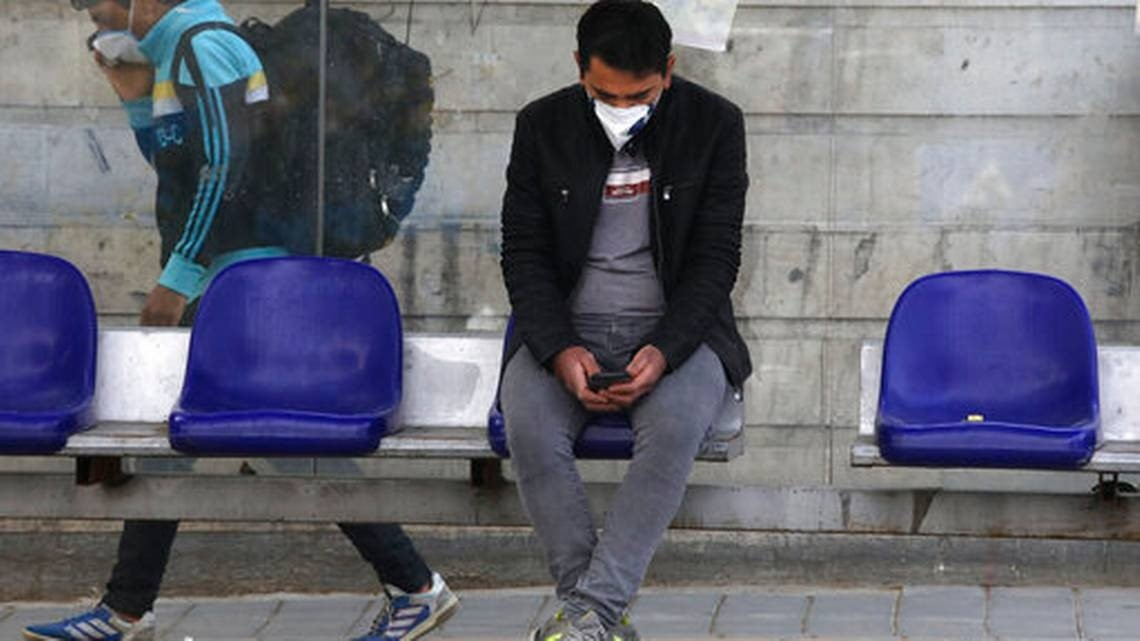face_with_mask: (574, 0, 680, 159), (73, 0, 181, 72)
